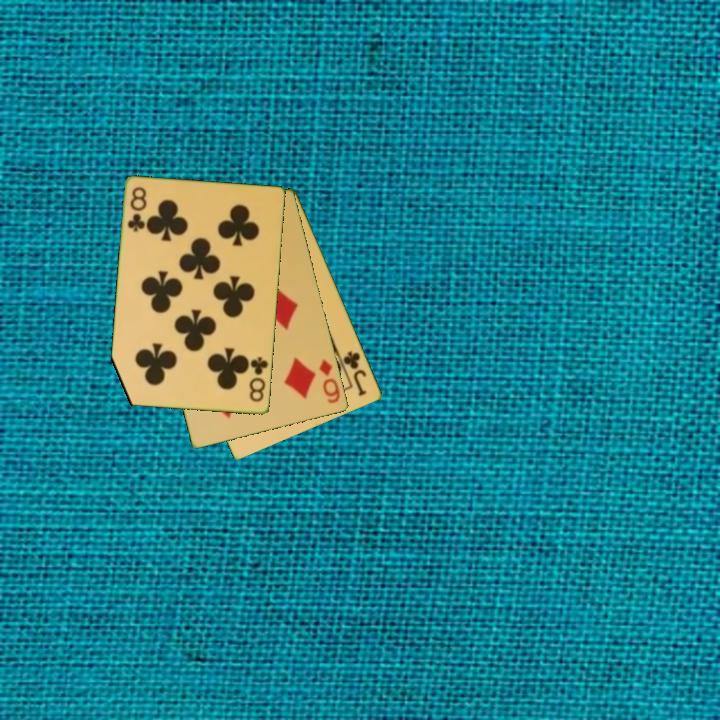6d: (316, 355, 343, 407)
8c: (124, 184, 150, 235), (246, 354, 271, 405)
Jc: (340, 348, 370, 399)
